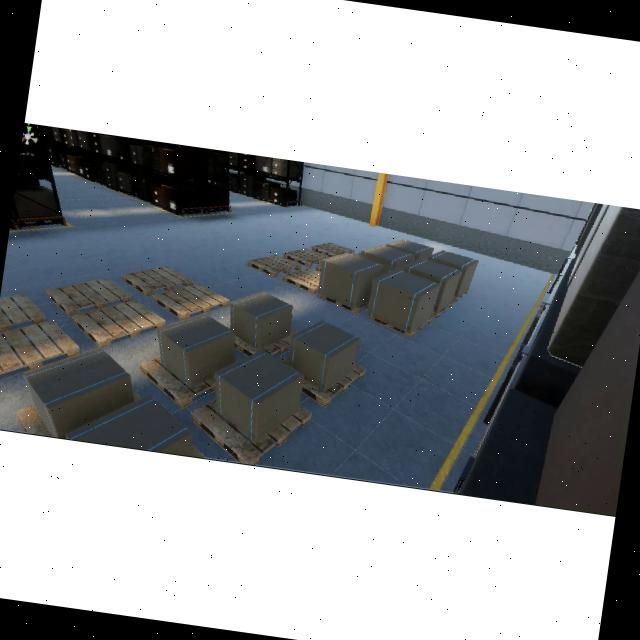wooden_pallet: (191, 398, 311, 466), (73, 300, 166, 348), (140, 356, 216, 407), (152, 284, 230, 320), (121, 266, 193, 296), (247, 254, 302, 277), (320, 295, 368, 314)
